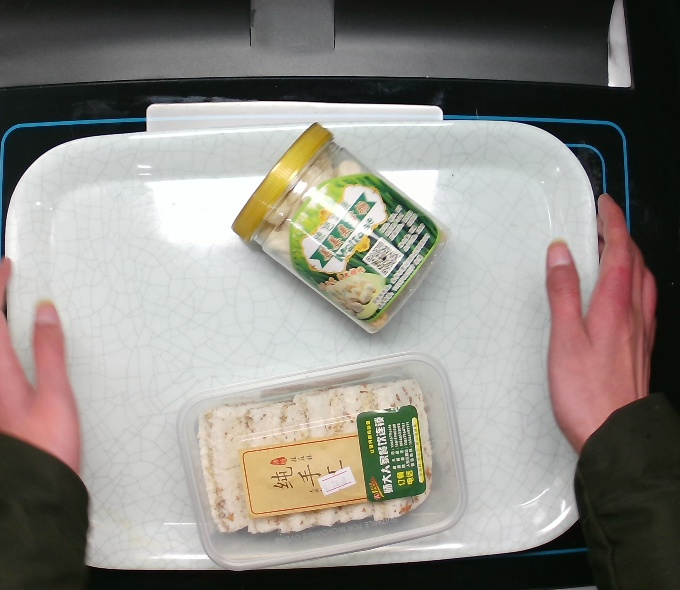wcq-GuiHuaGao: (172, 348, 471, 575)
wcq-MaiYaTang: (224, 117, 458, 339)
